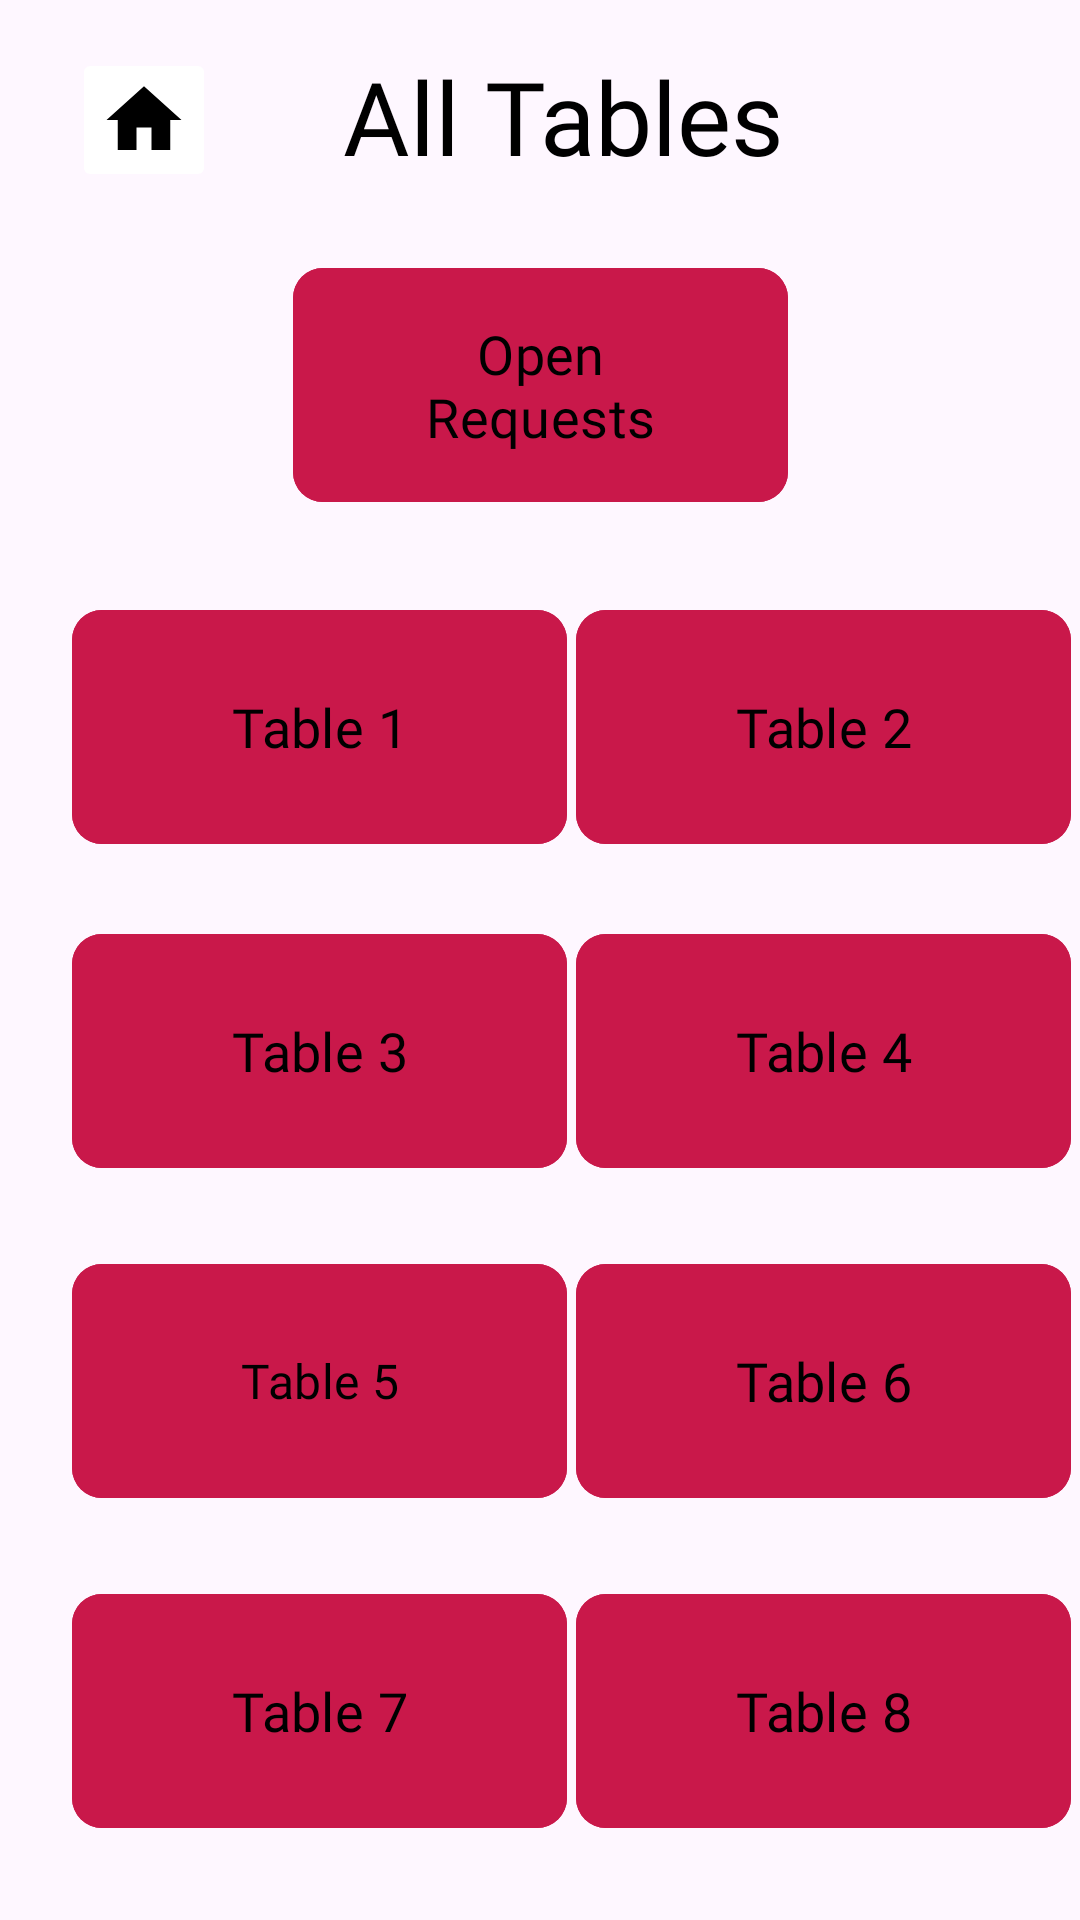

Icon click points for this 1080x1920 phone screenshot, format (x=x, y=y):
Take me home: (x=144, y=118)
